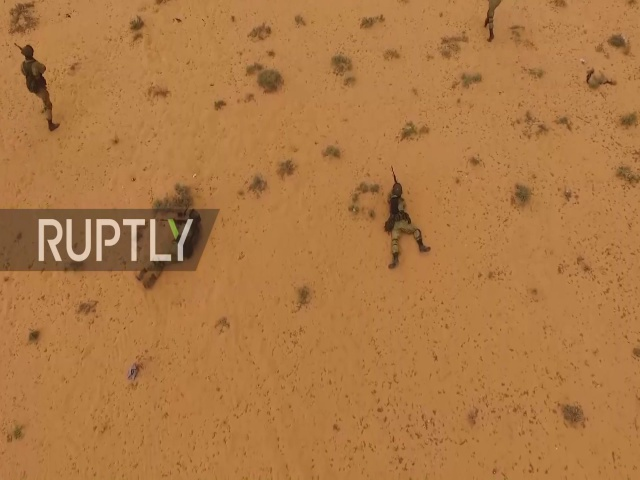person: (375, 168, 434, 273), (13, 40, 60, 133)
